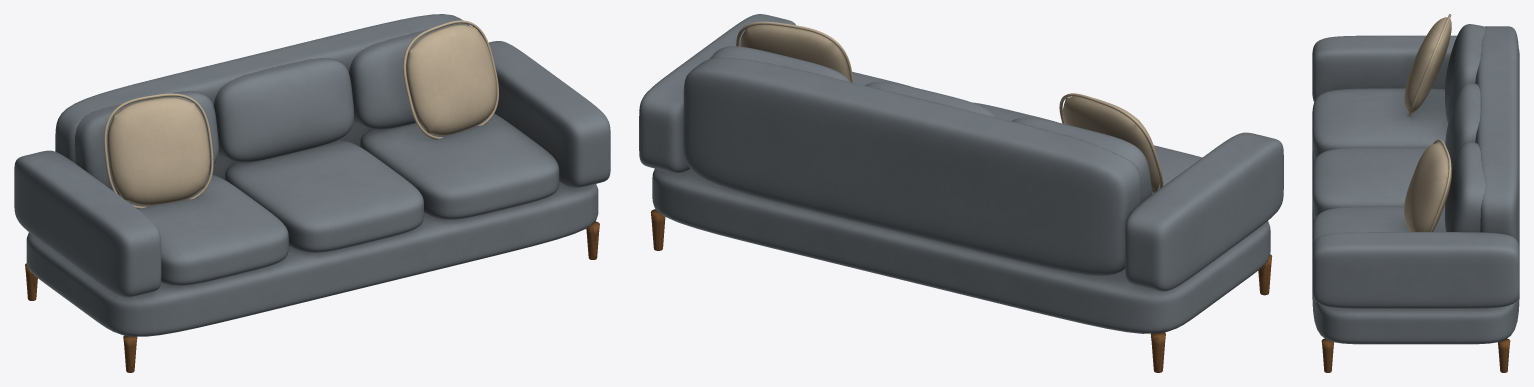
The model's file is modern-grey.glb.
The picture shows the model from 3 angles, left to right: view 1: azimuth 30°, elevation 25°; view 2: azimuth 150°, elevation 25°; view 3: azimuth 270°, elevation 25°; orthographic projection. The views are drawn at different scales.
Visible parts, largest first — view 1: fabric_primary, fabric_secondary, wood_legs; view 2: fabric_primary, fabric_secondary, wood_legs; view 3: fabric_primary, fabric_secondary, wood_legs.
Boxes of the visible parts, x1=… form: fabric_primary: x1=14, y1=14, x2=610, y2=336; fabric_secondary: x1=104, y1=20, x2=498, y2=208; wood_legs: x1=25, y1=221, x2=599, y2=372; fabric_primary: x1=639, y1=14, x2=1283, y2=333; fabric_secondary: x1=736, y1=21, x2=1163, y2=192; wood_legs: x1=650, y1=209, x2=1272, y2=372; fabric_primary: x1=1312, y1=24, x2=1519, y2=344; fabric_secondary: x1=1404, y1=14, x2=1451, y2=231; wood_legs: x1=1321, y1=338, x2=1510, y2=372.
Bounding box in the file's own units: 2.26 × 0.9015 × 0.92.
Materials: 3 (3 with a texture image).
